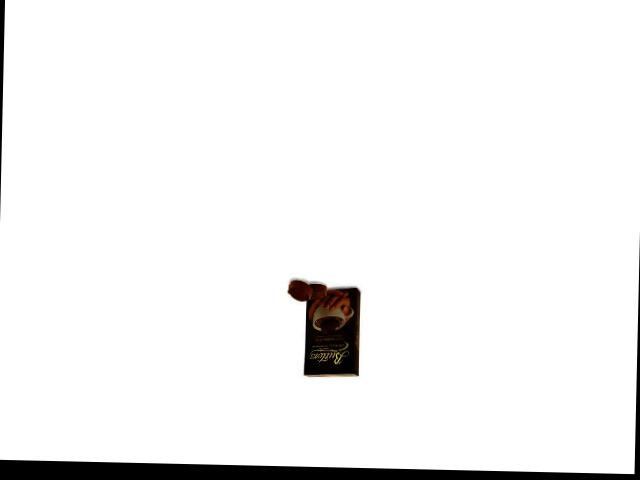chocolate: (296, 284, 364, 380)
